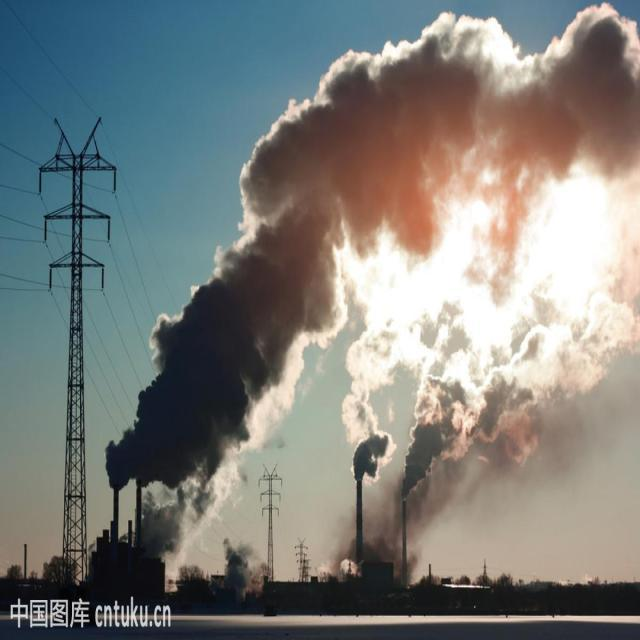Smoke: (103, 0, 640, 591)
